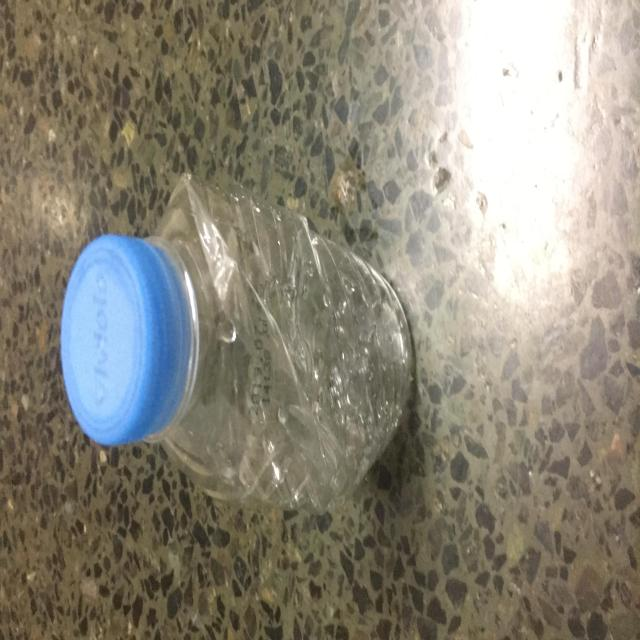bottle: (58, 166, 414, 522)
